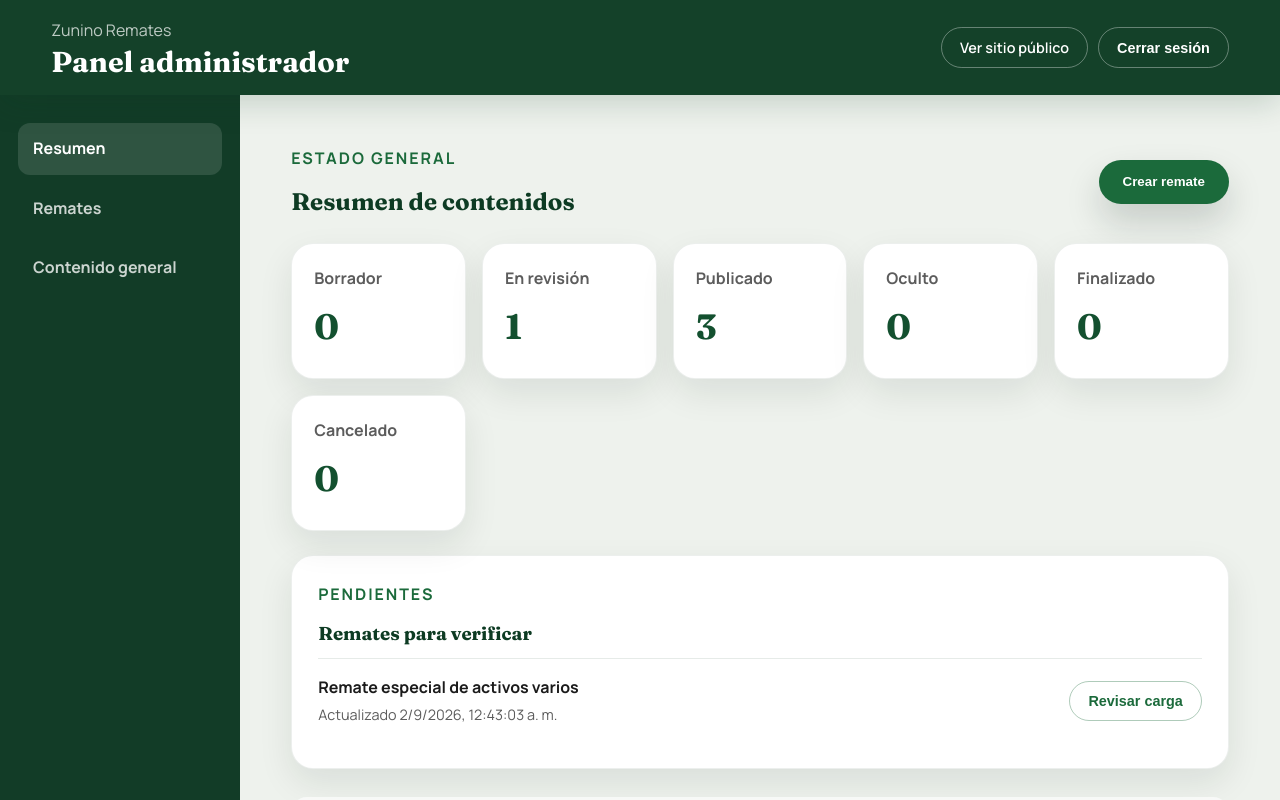
Test: panel administrador › oculta y vuelve a publicar un remate
Click the button "Remates": x=120, y=209 left=18, top=183, right=222, bottom=234
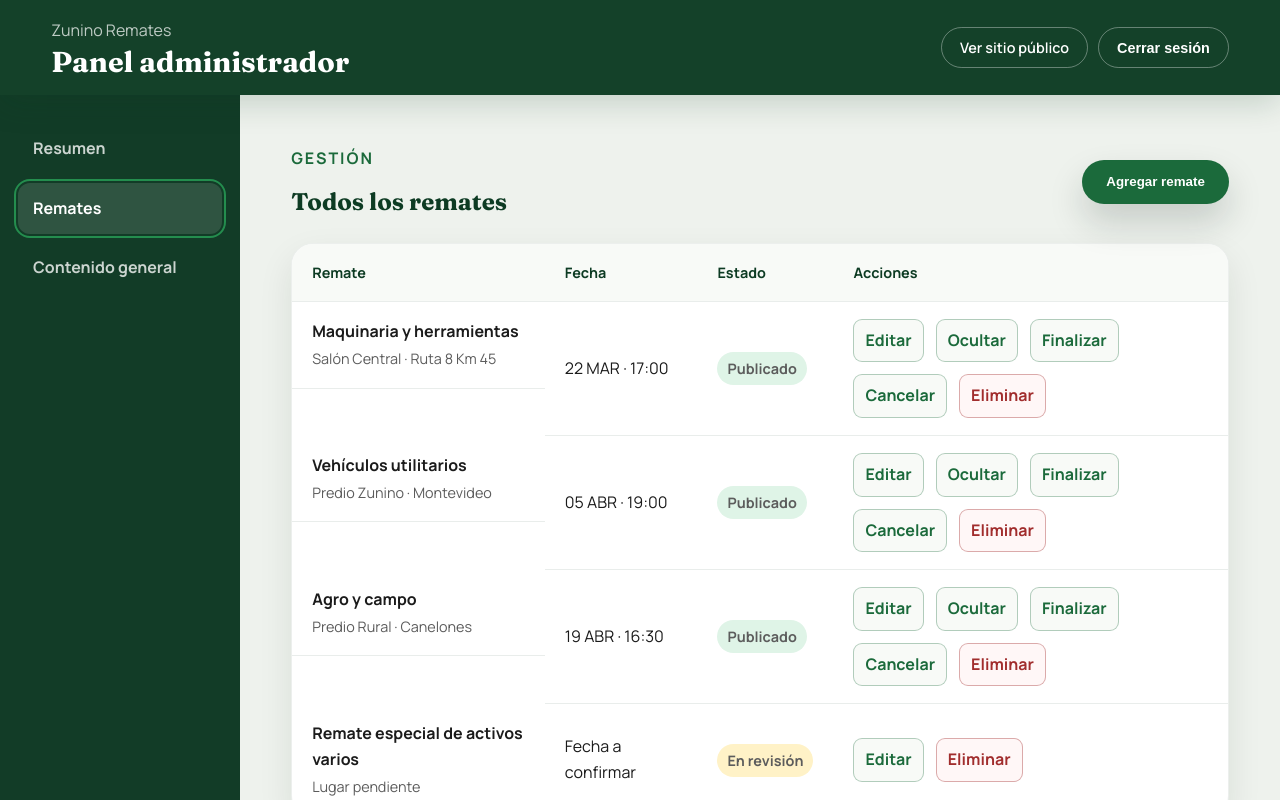
Click the button "Ocultar" in the row of "Maquinaria y herramientas": x=977, y=341 left=936, top=319, right=1018, bottom=362
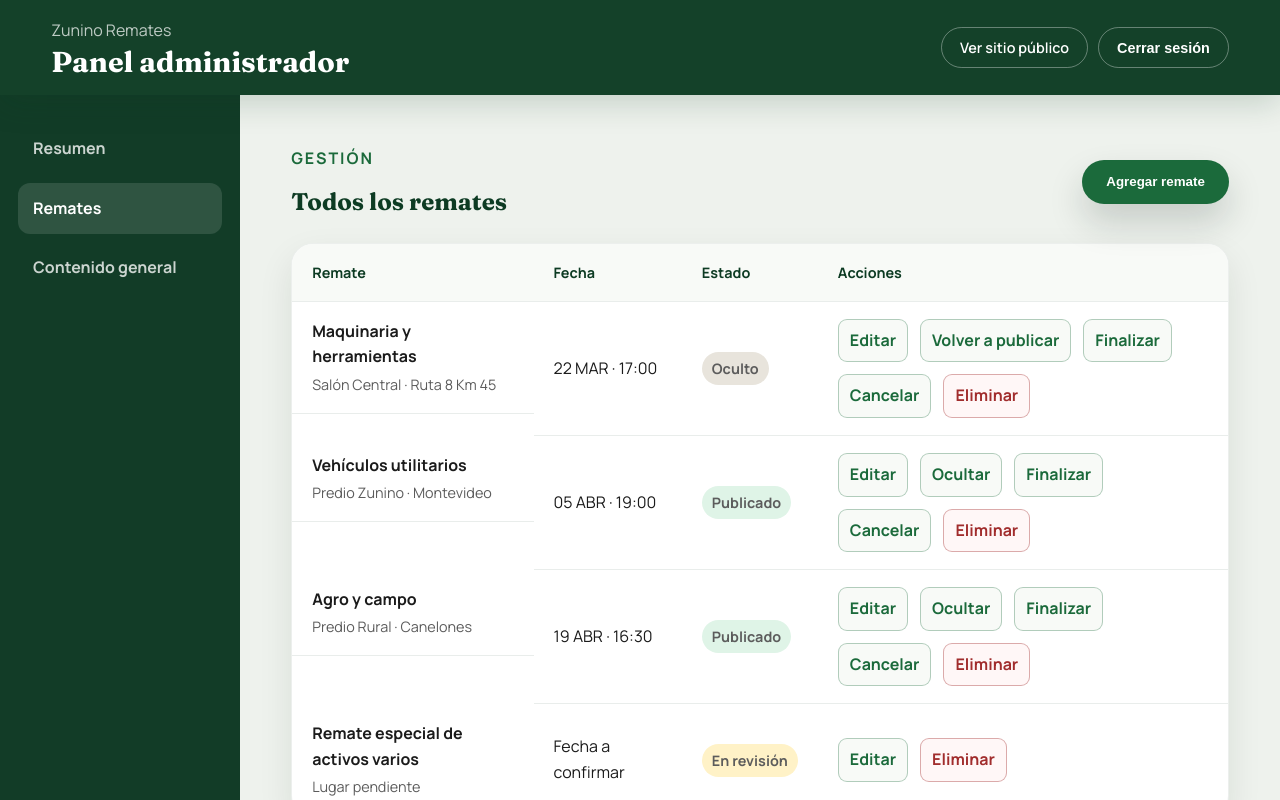
Check: the text "Oculto" is shown, box left=712, top=359, right=759, bottom=378
Check: the button "Volver a publicar" is shown
Click the button "Volver a publicar": x=996, y=341 left=920, top=319, right=1071, bottom=362
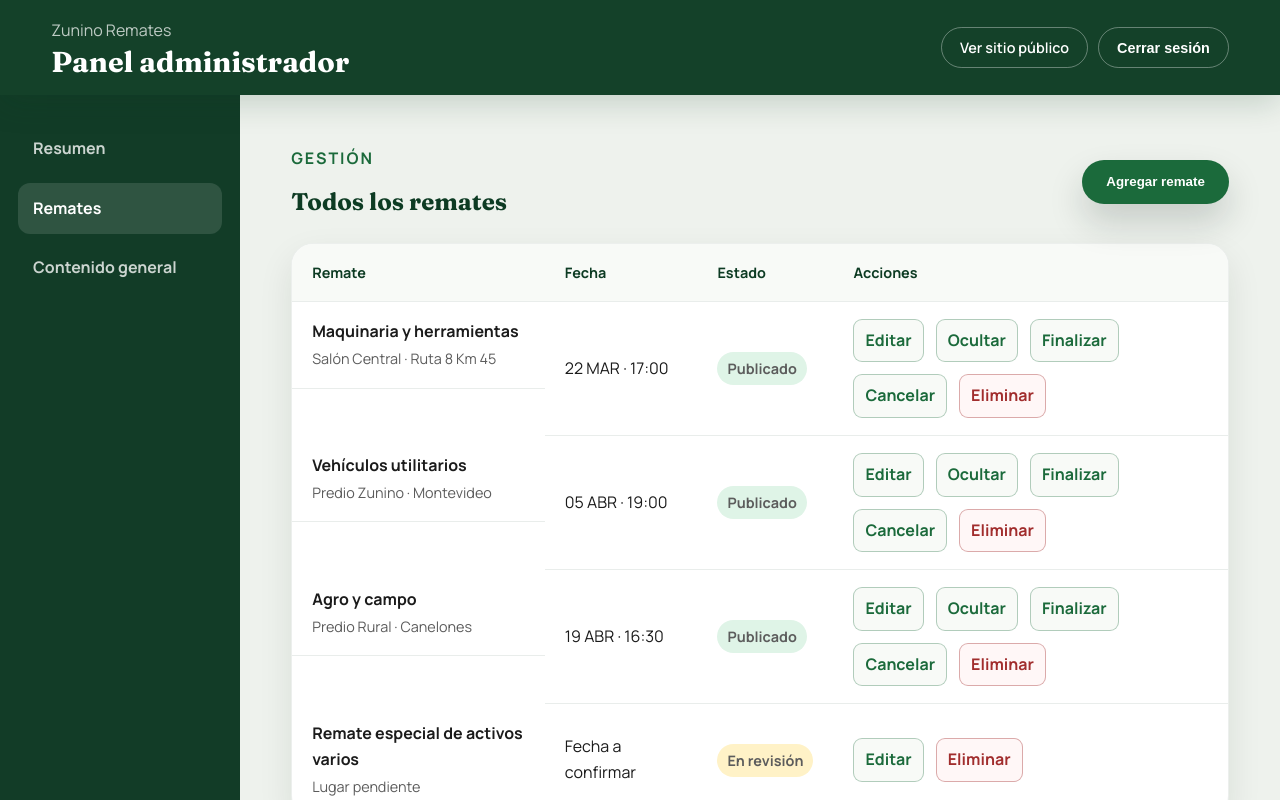
Check: the text "Publicado" below "Maquinaria y herramientas" is shown, box left=728, top=359, right=797, bottom=378
